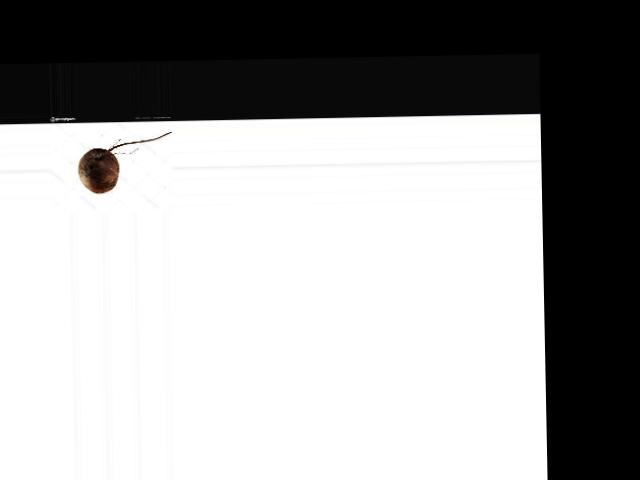beet: (78, 131, 173, 193)
